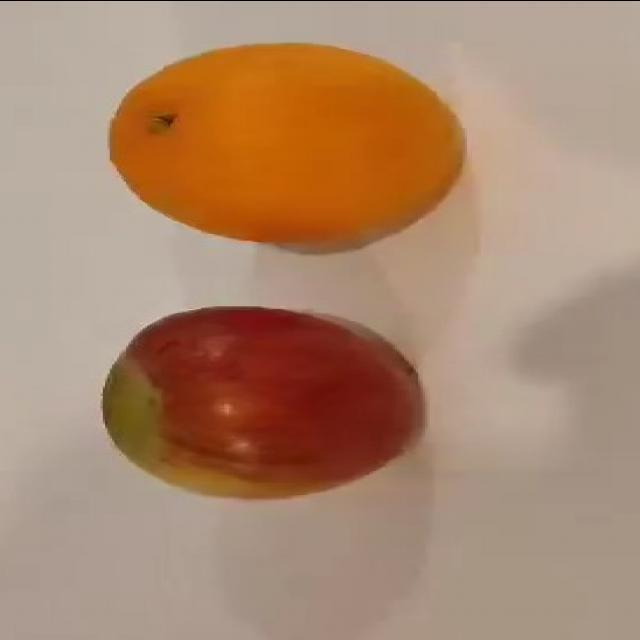Apple: (100, 304, 427, 500)
Orange: (107, 40, 466, 254)
